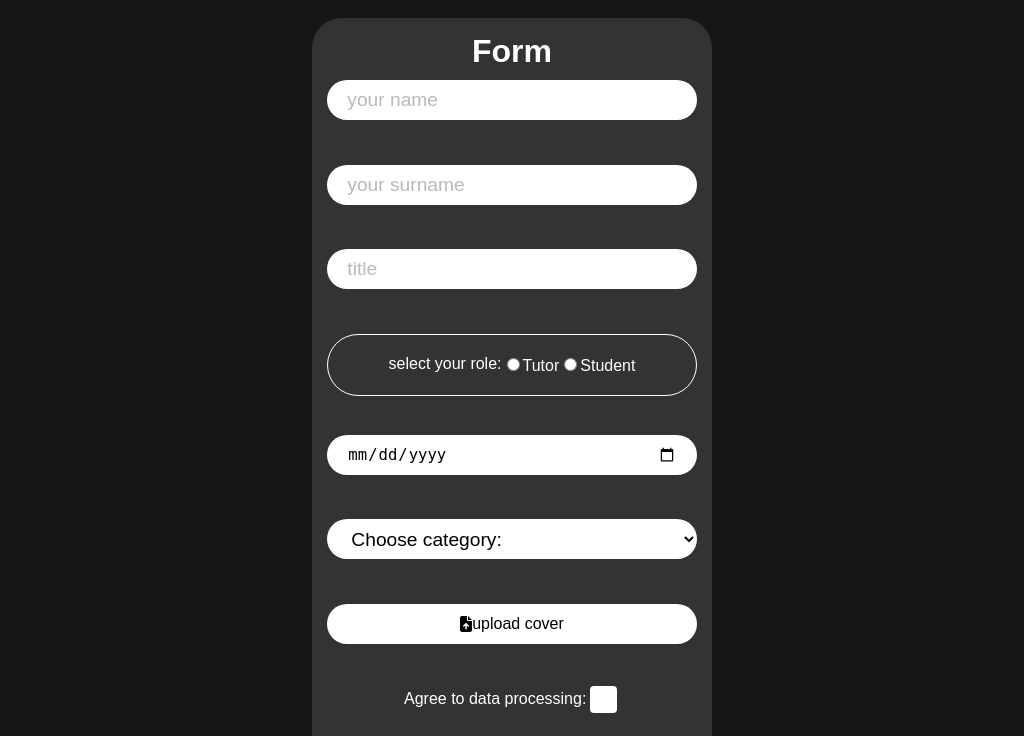
Test: Form › displays modal error message
Step 1. Type "a" into the field with placeholder "your name" → (512, 100), box [327,80,697,120]
(page scrolled)
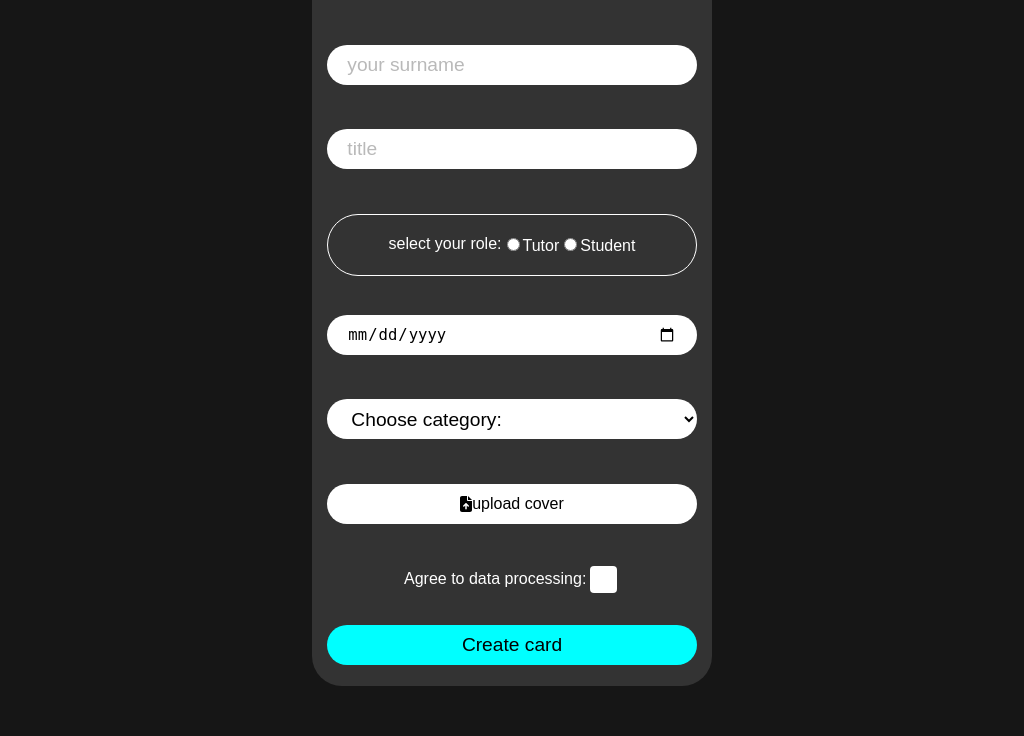
Step 2. Click the button "Create card" → (512, 645), box [327,625,697,665]
(page scrolled)
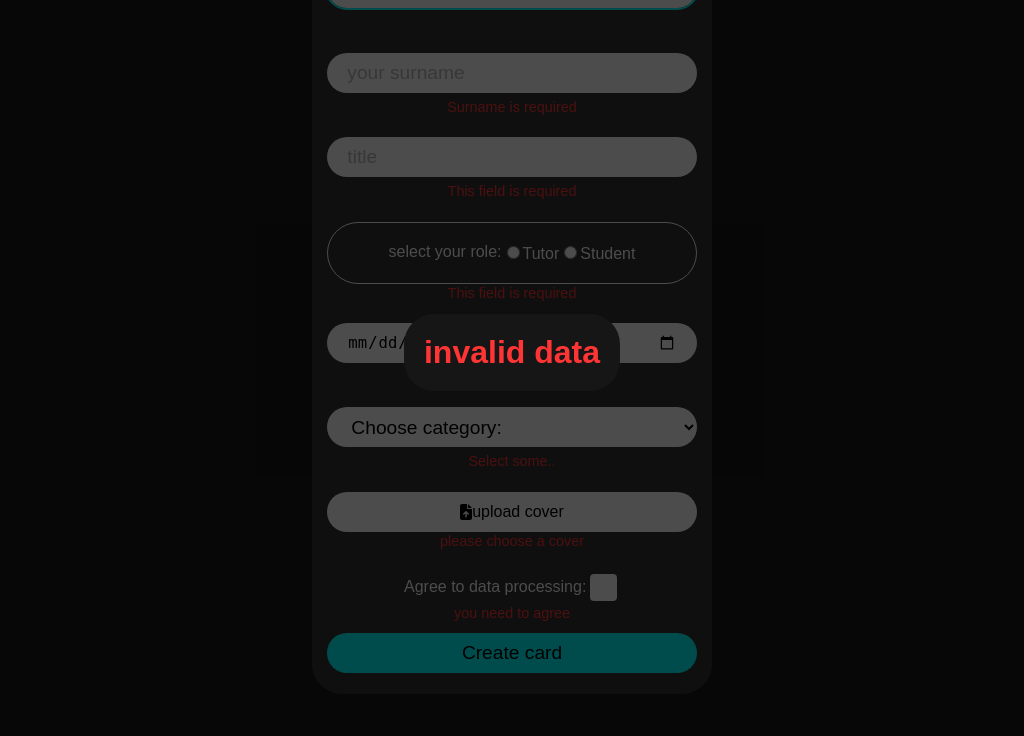
Expected: the heading "invalid data" is shown, [424,334,600,370]
